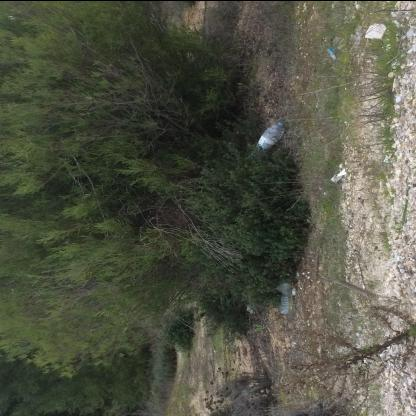plastik: (254, 120, 284, 156), (278, 272, 296, 314)
